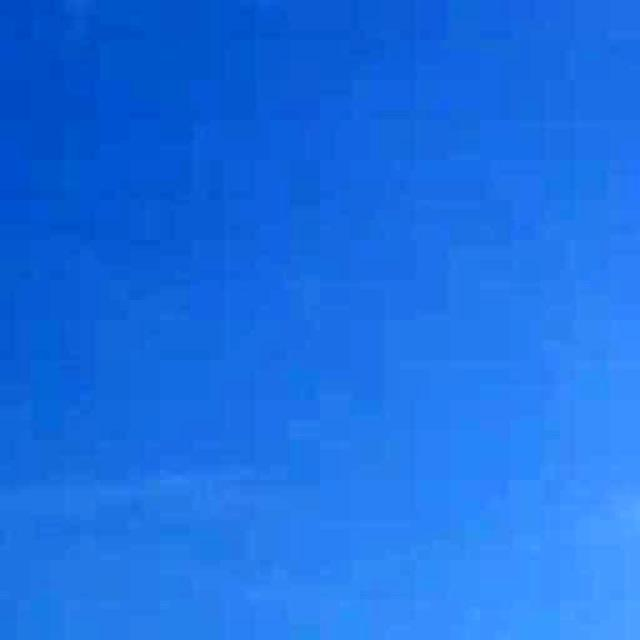drone: (209, 621, 259, 640)
